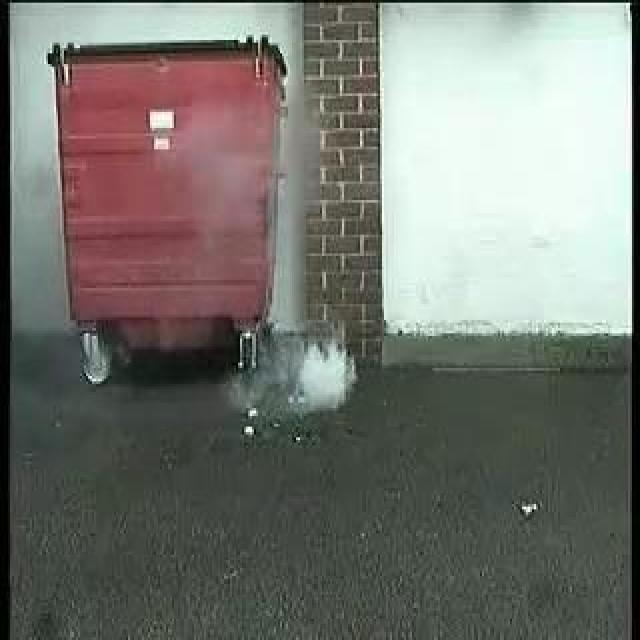Smoke: (286, 332, 358, 409)
